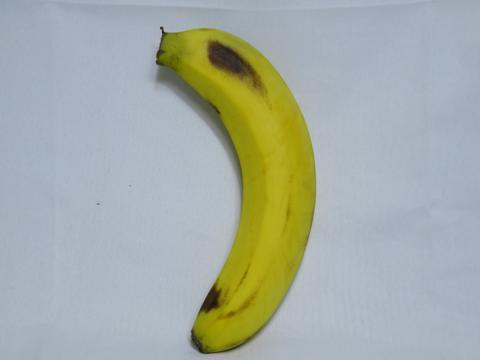freshripe: (141, 19, 337, 359)
